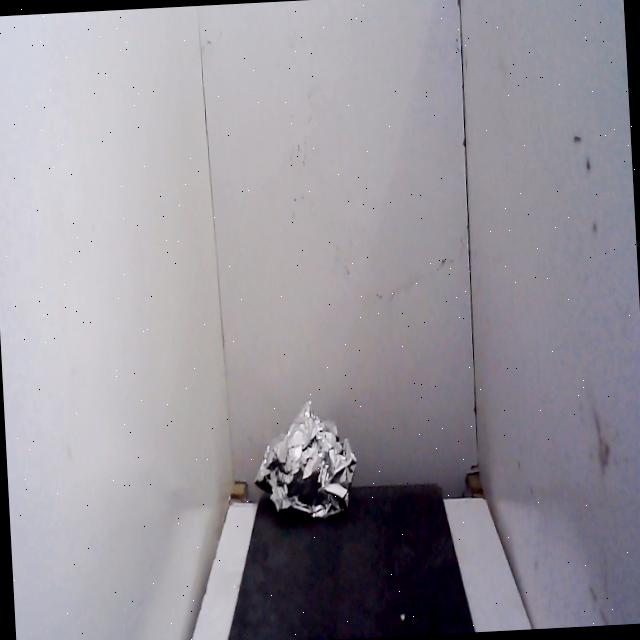metal: (240, 377, 374, 562)
